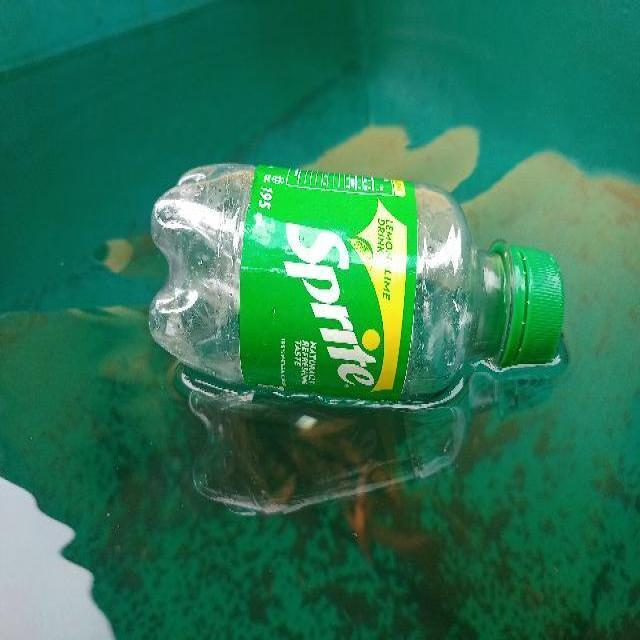Bottle: (134, 148, 581, 420)
